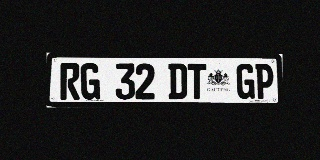2: (135, 63, 154, 99)
3: (116, 63, 135, 99)
D: (168, 63, 187, 99)
G: (80, 63, 100, 100), (236, 64, 255, 99)
P: (255, 64, 273, 99)
R: (60, 63, 80, 100)
T: (188, 63, 206, 99)
